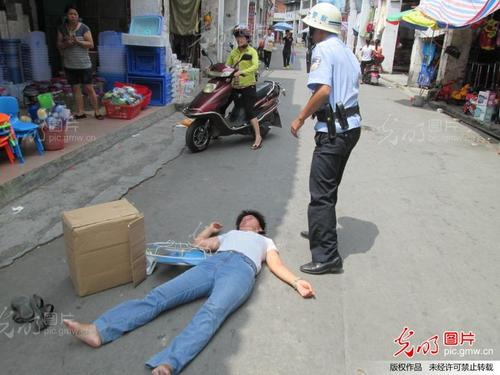fall: (37, 202, 318, 375)
